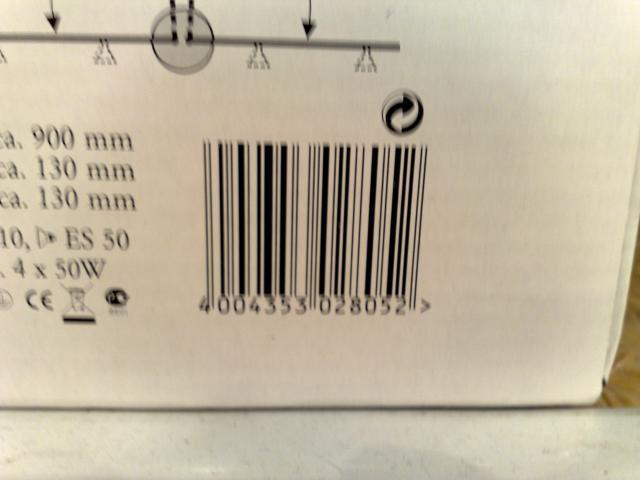Barkod: (197, 137, 426, 296)
